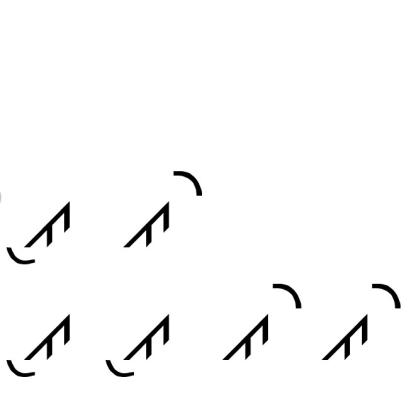kaw: (2, 188, 74, 270), (100, 309, 176, 384), (4, 305, 73, 382)
kay: (212, 270, 303, 370), (119, 163, 204, 257), (323, 276, 405, 371)
